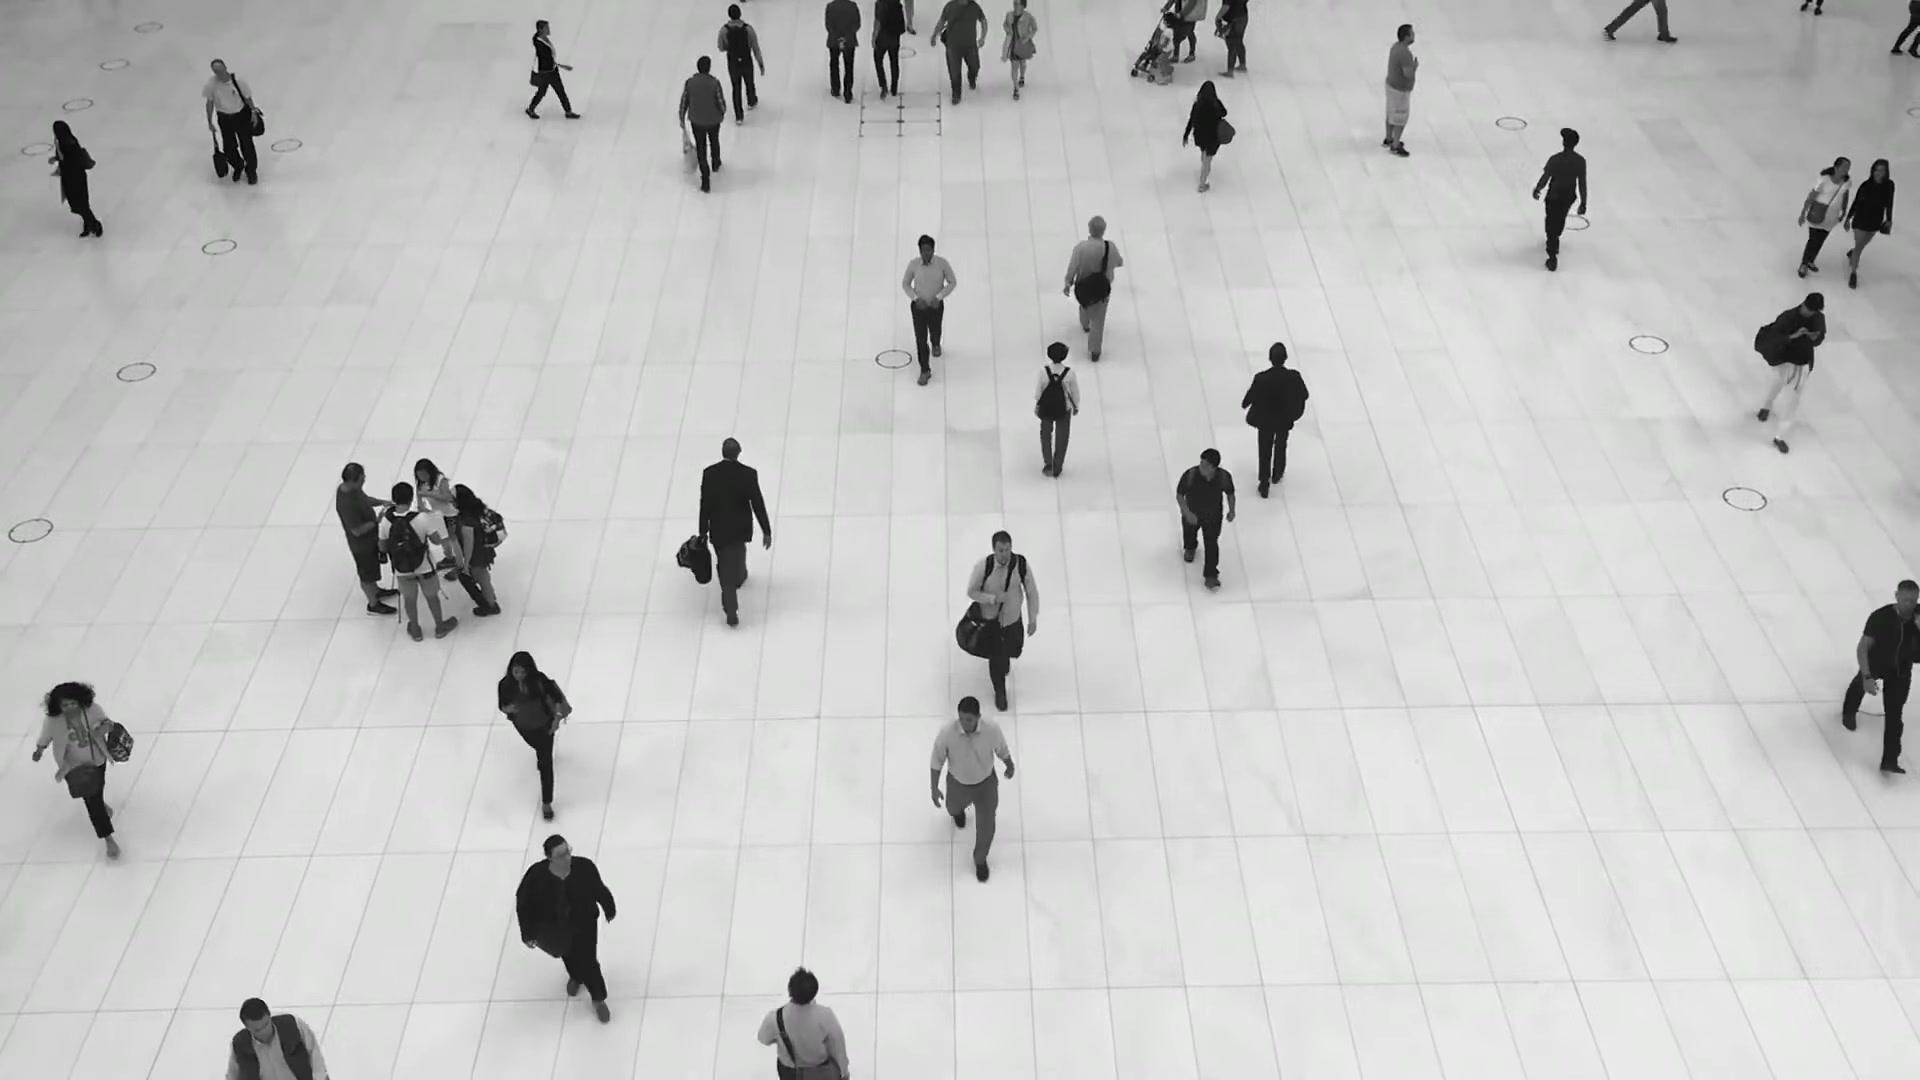person: (516, 833, 617, 1031), (927, 692, 1017, 872), (1839, 580, 1919, 779), (31, 677, 122, 843), (698, 436, 772, 618), (966, 526, 1039, 706), (378, 481, 459, 641), (496, 647, 574, 812), (1752, 290, 1828, 448), (1243, 345, 1310, 508), (756, 966, 848, 1080), (335, 465, 400, 615), (1175, 446, 1237, 593), (899, 231, 960, 381), (1064, 215, 1123, 365), (228, 993, 326, 1080), (1531, 127, 1588, 275), (201, 58, 258, 187), (1793, 156, 1852, 282), (449, 484, 502, 617), (48, 118, 105, 240), (1032, 343, 1081, 487), (678, 54, 727, 192), (1842, 157, 1895, 285), (932, 0, 991, 104), (1183, 79, 1236, 194), (717, 4, 765, 128), (1381, 23, 1421, 157), (522, 17, 575, 119), (419, 458, 459, 580), (823, 0, 861, 106), (1000, 0, 1038, 99), (869, 0, 905, 100), (1153, 12, 1176, 85)
